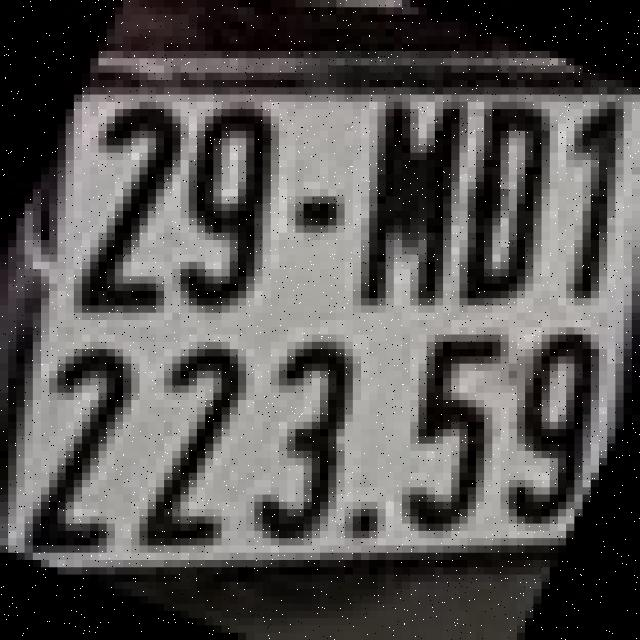1: (566, 102, 624, 298)
2: (78, 109, 176, 313), (29, 353, 127, 549), (143, 349, 234, 546)
3: (258, 342, 349, 538)
5: (406, 338, 497, 527)
9: (508, 334, 590, 524), (185, 113, 266, 302)
D: (464, 109, 546, 298)
M: (365, 98, 456, 302)
